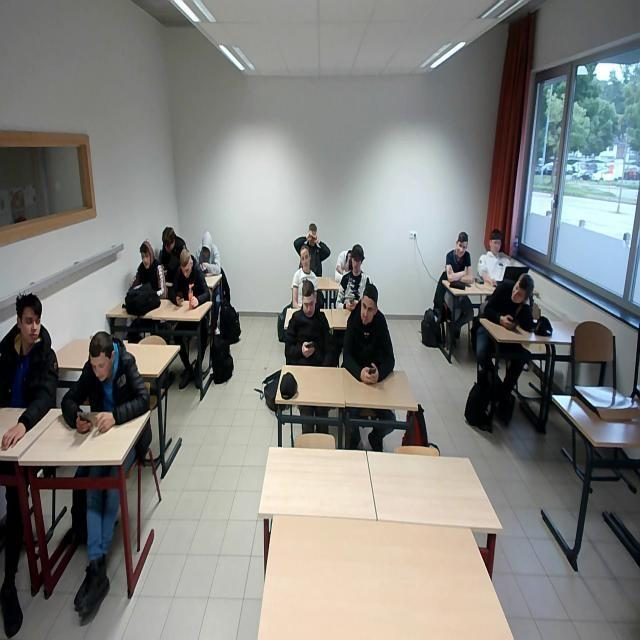phone_use: (341, 283, 393, 382), (284, 280, 335, 364), (111, 338, 147, 423), (483, 272, 532, 329), (60, 360, 102, 426), (169, 248, 208, 306), (336, 245, 369, 309), (158, 226, 184, 281)
